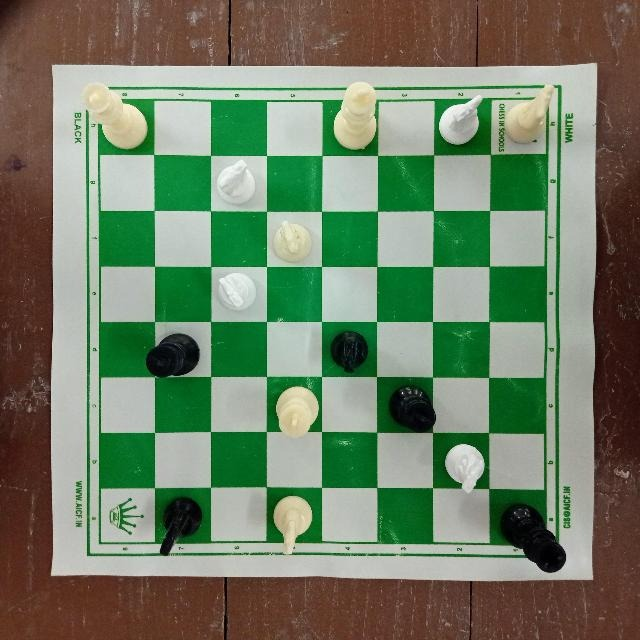black-king: (497, 499, 568, 574), (145, 326, 201, 379), (385, 381, 438, 435)
black-knight: (152, 493, 203, 555), (328, 327, 370, 378)
white-king: (331, 80, 379, 152), (271, 381, 327, 440)
white-knight: (500, 82, 557, 148), (267, 493, 315, 558), (434, 92, 486, 147), (437, 440, 488, 494), (210, 269, 265, 316), (271, 217, 318, 267), (216, 157, 258, 205)
white-queen: (78, 81, 150, 152)
